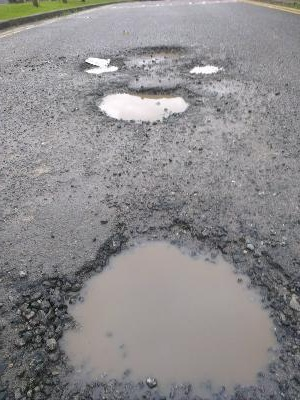pothole: (21, 212, 297, 399), (90, 83, 197, 122), (123, 43, 192, 60), (81, 51, 121, 74), (185, 59, 227, 77)
